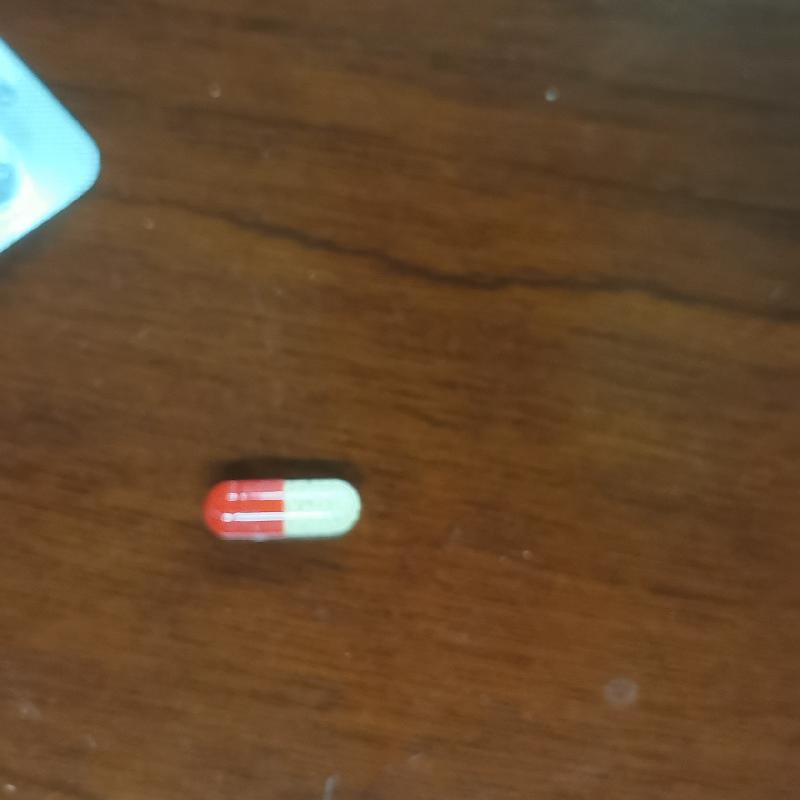pills: (192, 473, 373, 549)
